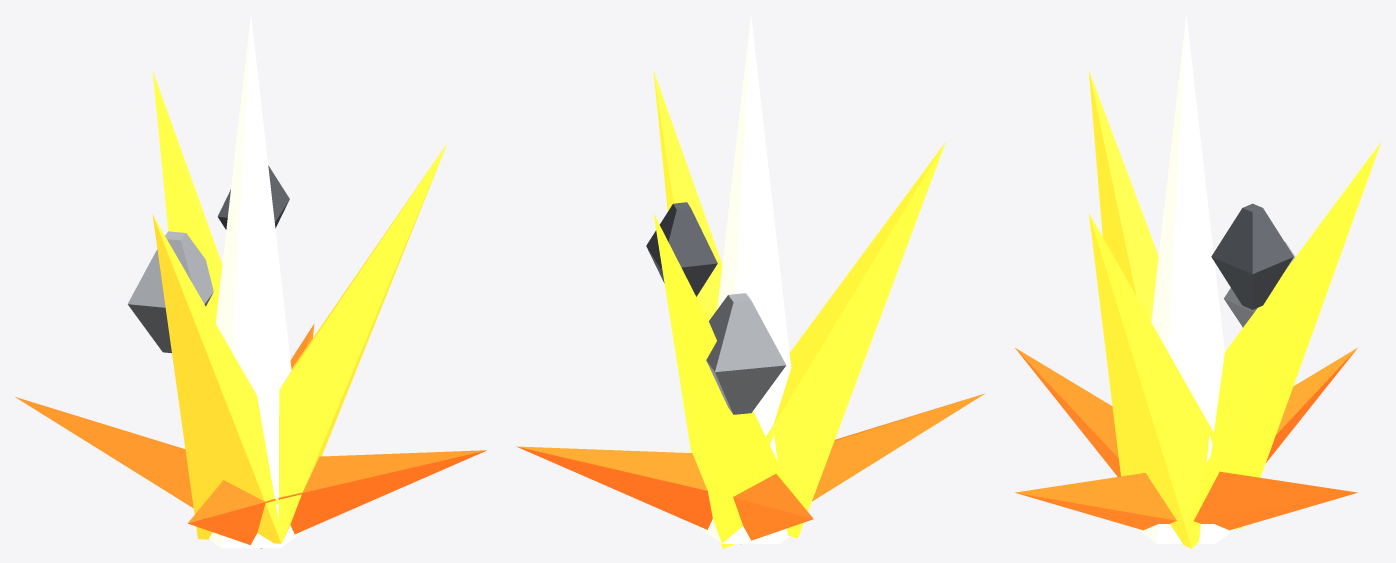
The model's file is vfx_muzzle_rifle.glb.
3 renders of one model, left to right at view 1: azimuth 30°, elevation 25°; view 2: azimuth 150°, elevation 25°; view 3: azimuth 270°, elevation 25°, orthographic.
Visible parts, largest first — view 1: VFX_Muzzle_Rifle; view 2: VFX_Muzzle_Rifle; view 3: VFX_Muzzle_Rifle.
Part boxes in pixels (x1=…): VFX_Muzzle_Rifle: x1=15, y1=15, x2=486, y2=548; VFX_Muzzle_Rifle: x1=516, y1=15, x2=984, y2=548; VFX_Muzzle_Rifle: x1=1015, y1=15, x2=1381, y2=548.
Size of the model in its own units: 0.1661 by 0.2786 by 0.1773.
